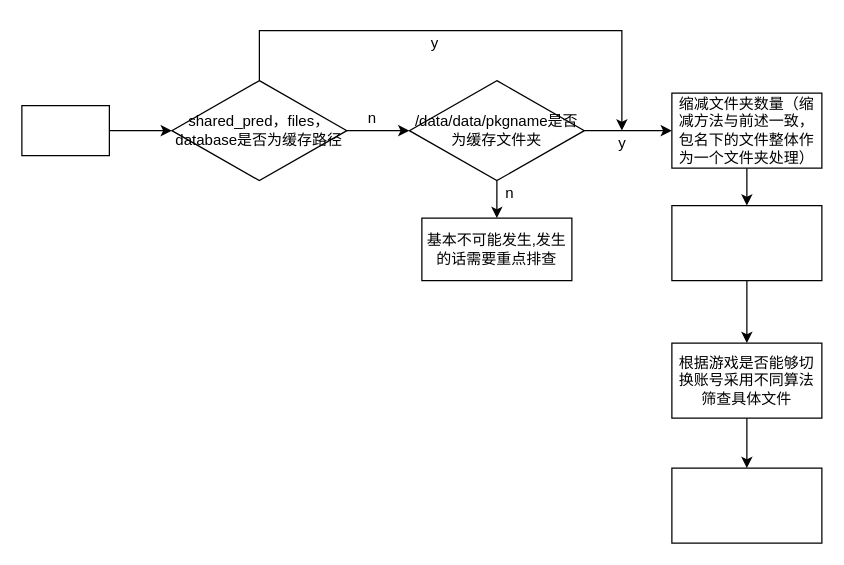
This 844x565 diagram has some shape labels left out. The centre of each missing label's shape, as x and y in pixels:
列出缩减后的所有文件夹下面的所有文件: (x=746, y=242)
对定位出的文件进一步缩减获取存档文件: (x=746, y=505)
开始: (x=65, y=130)
